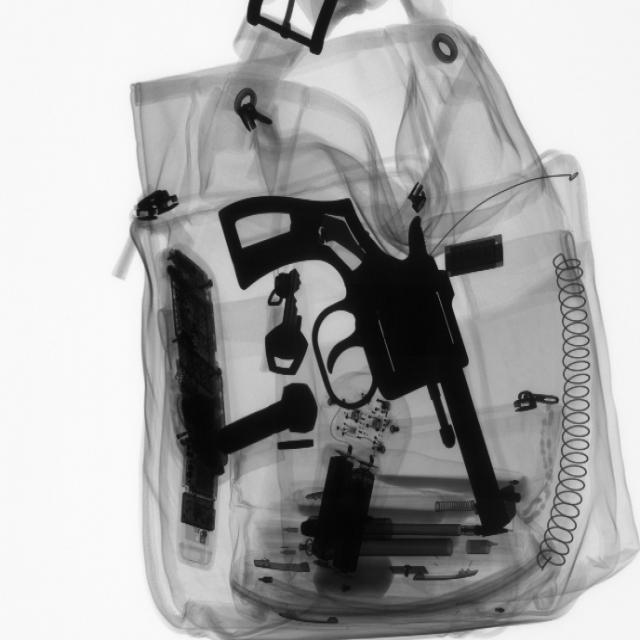GUN: (201, 185, 506, 543)
